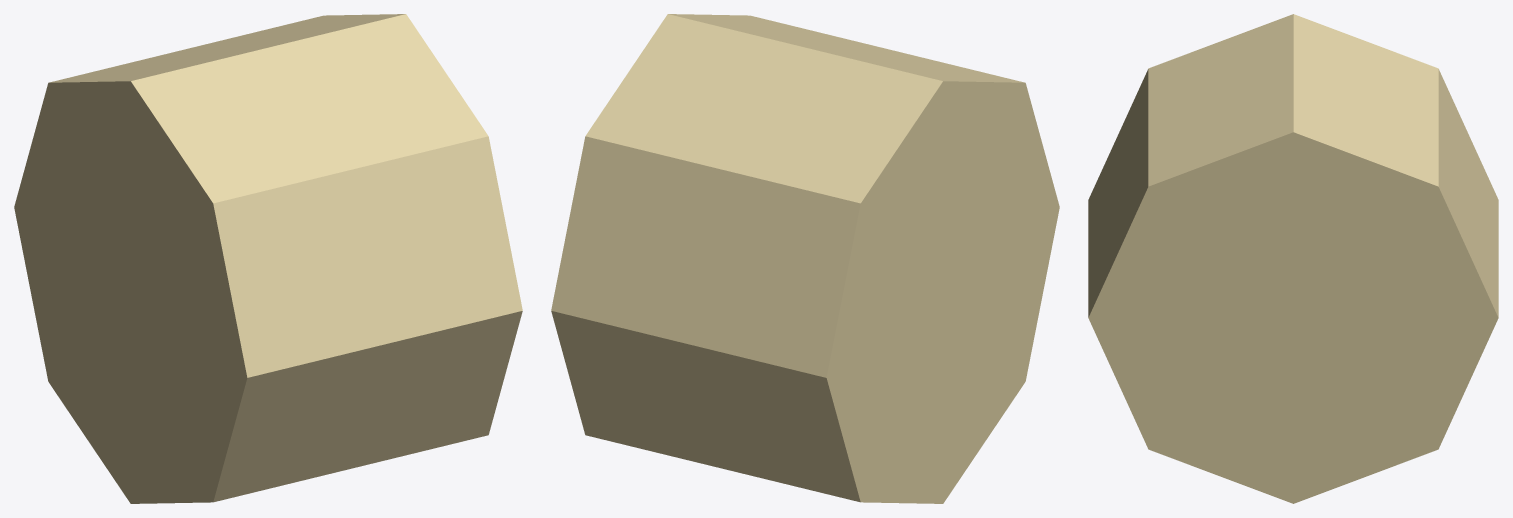
The model's file is prop_bale_round.glb.
3 views of the same model, side by side, from view 1: azimuth 30°, elevation 25°; view 2: azimuth 150°, elevation 25°; view 3: azimuth 270°, elevation 25° (orthographic). The views are drawn at different scales.
Parts seen in each view (by area): view 1: prop_bale_round; view 2: prop_bale_round; view 3: prop_bale_round.
Part boxes in pixels (x1,y1,x2,y2): prop_bale_round: (14,14,522,503); prop_bale_round: (551,14,1059,503); prop_bale_round: (1088,14,1498,503).
Bounding box in the file's own units: 0.075 × 0.11 × 0.11.
